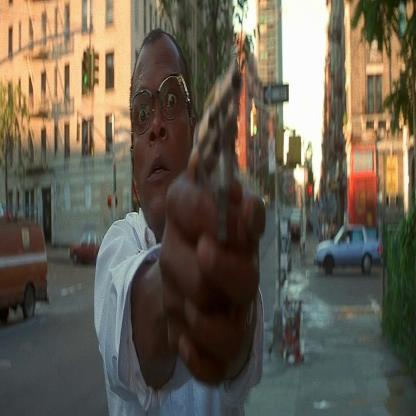gun: (189, 48, 241, 221)
